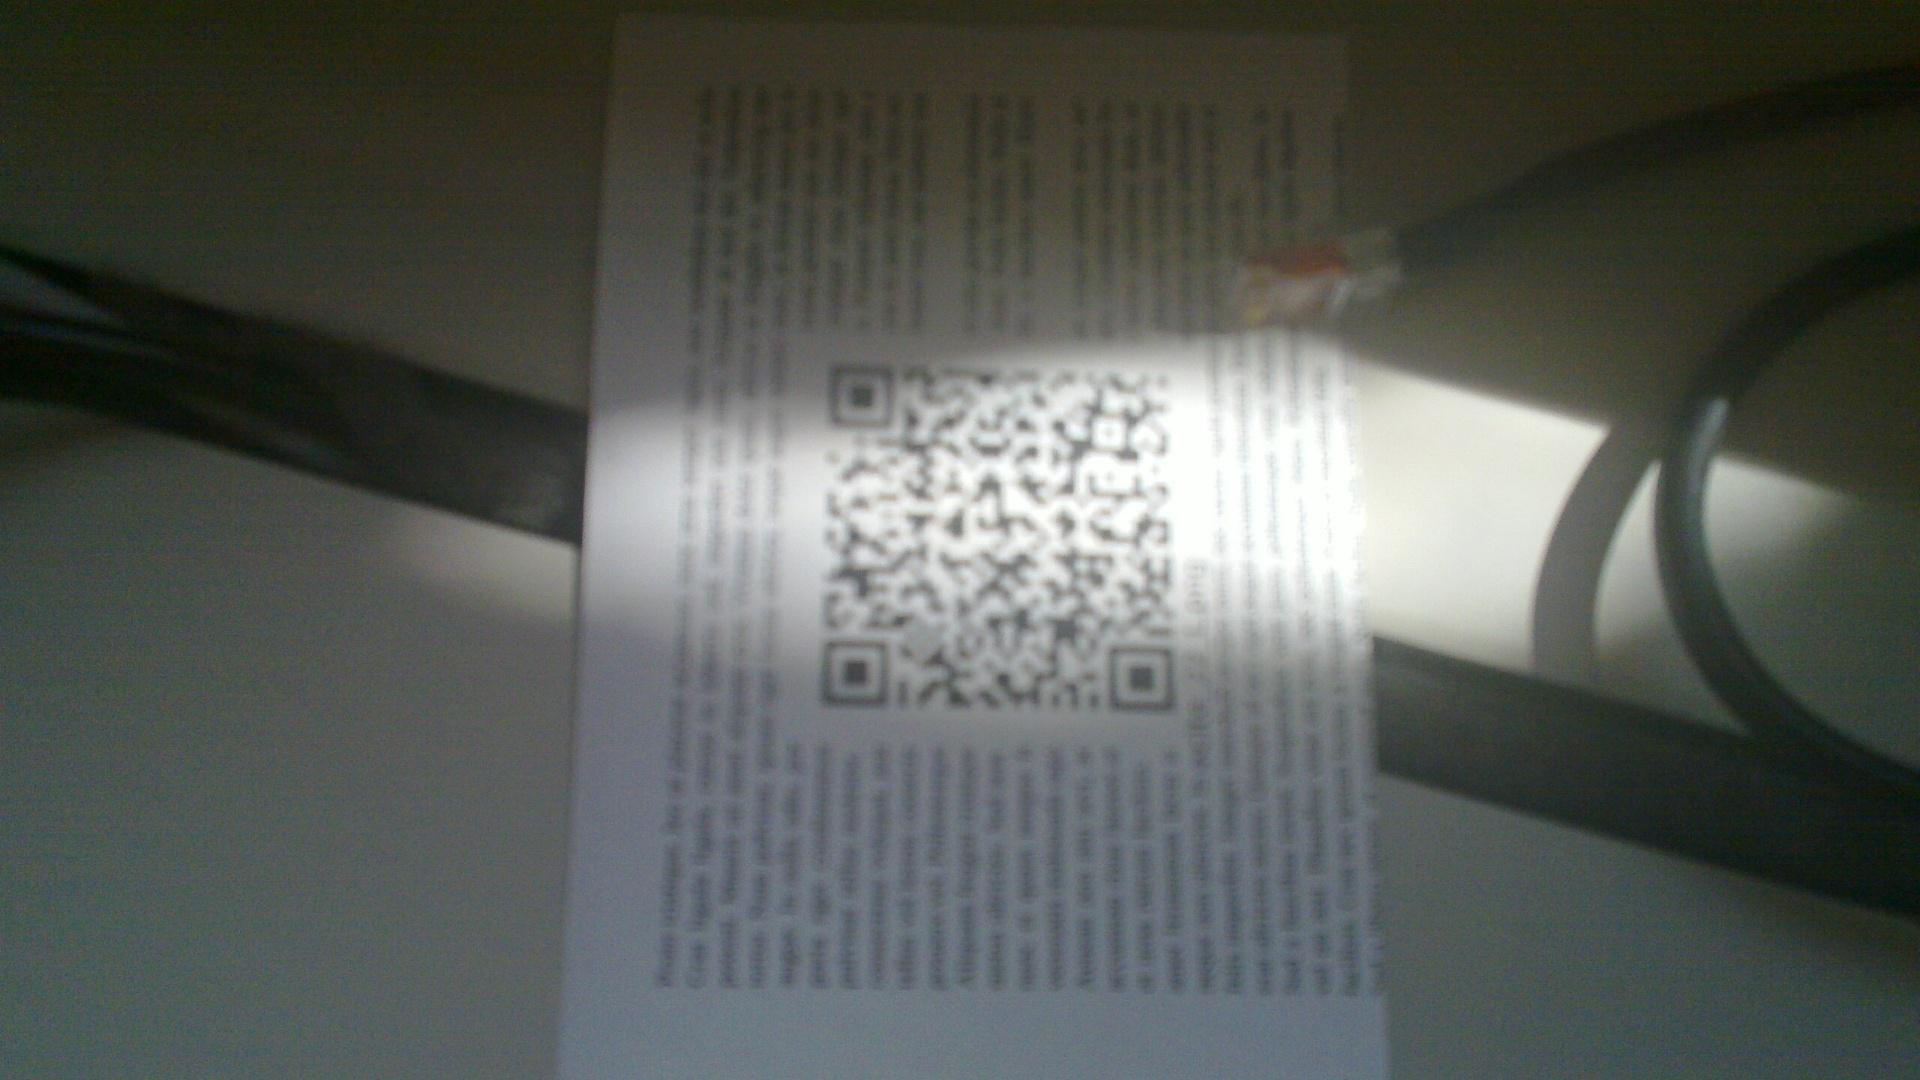Finder pattern: (823, 356, 903, 434), (818, 632, 891, 716), (1106, 638, 1179, 717)
